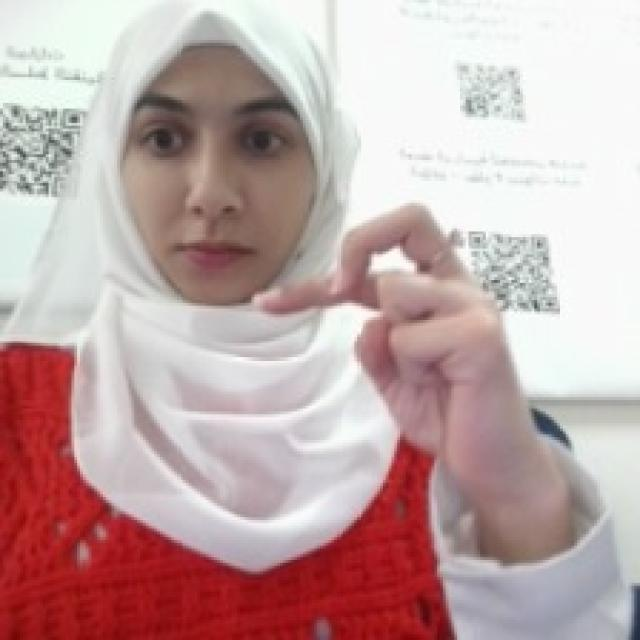sunday: (246, 192, 523, 457)
